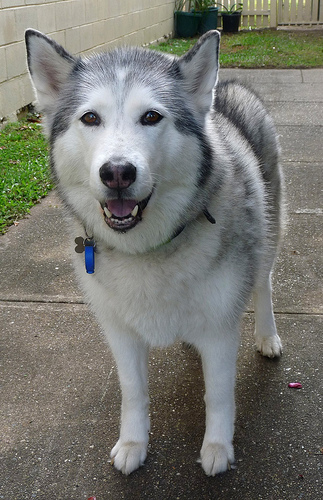dog: (16, 0, 295, 492)
